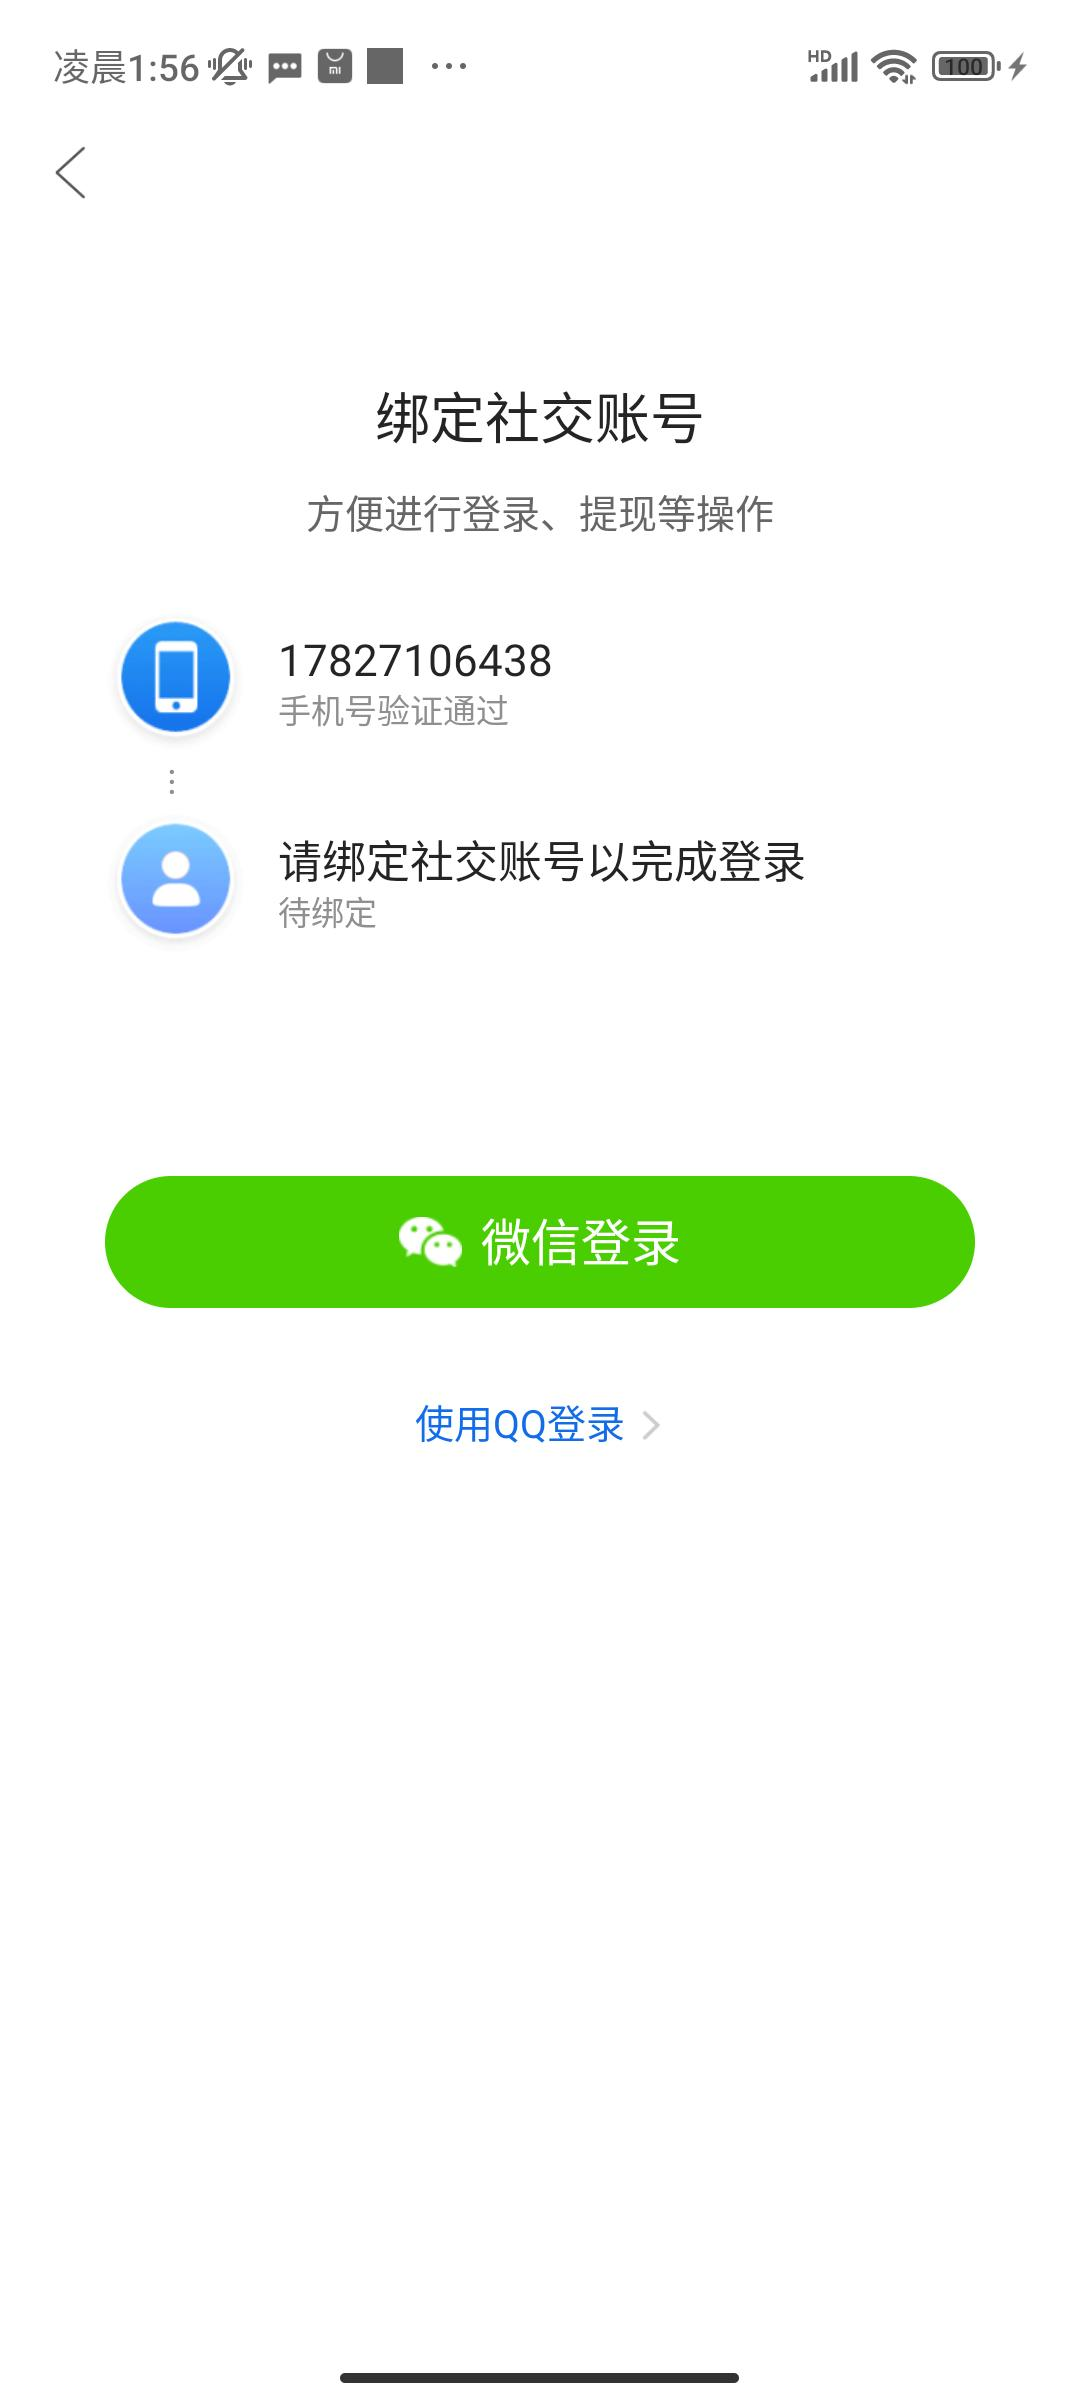ui_group: (73, 347, 999, 1477)
